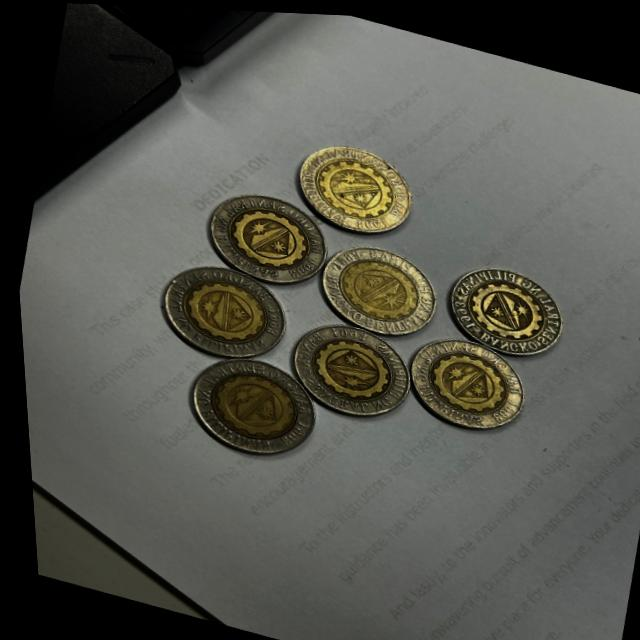10_Old_Back: (149, 256, 285, 369), (186, 188, 331, 290), (179, 346, 311, 457), (283, 316, 416, 426), (314, 232, 441, 334), (399, 327, 520, 433), (445, 254, 557, 357), (291, 135, 410, 230)
